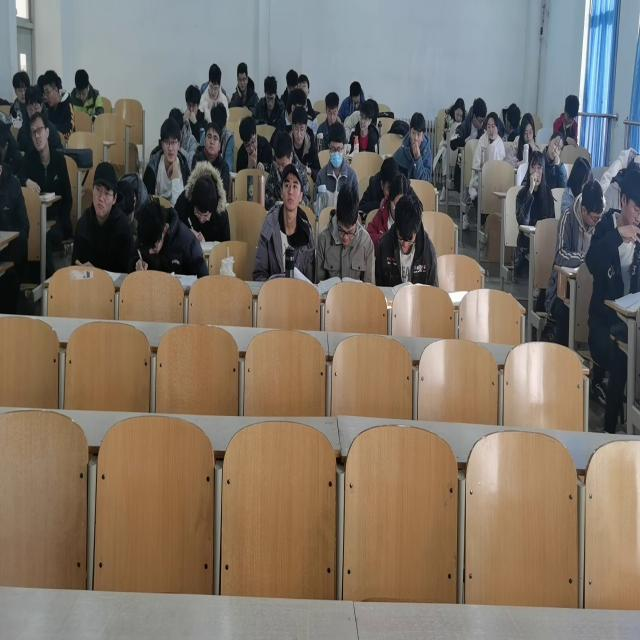bow: (128, 191, 209, 280), (174, 158, 233, 242), (358, 155, 400, 220), (235, 110, 274, 170), (450, 97, 488, 150), (495, 102, 524, 143), (442, 96, 466, 133)
down: (392, 189, 424, 251), (136, 197, 167, 258), (336, 185, 360, 249), (190, 173, 218, 226), (580, 177, 604, 230), (621, 164, 640, 230), (325, 121, 347, 169), (273, 130, 294, 179), (239, 112, 259, 156), (378, 157, 398, 200), (41, 70, 59, 110), (292, 102, 308, 145), (24, 84, 43, 120), (207, 63, 223, 102), (324, 88, 340, 127), (520, 110, 536, 146), (263, 73, 278, 111), (504, 100, 521, 133), (74, 68, 90, 103), (185, 83, 201, 117), (564, 92, 579, 125), (472, 98, 487, 130), (349, 81, 361, 113), (453, 95, 465, 121)
lookup: (90, 159, 119, 217), (278, 162, 305, 213), (160, 115, 182, 164), (27, 110, 50, 154), (408, 110, 426, 153), (527, 151, 546, 189), (203, 122, 223, 157), (358, 98, 374, 133), (548, 130, 564, 163), (485, 109, 500, 140), (296, 70, 310, 98), (236, 60, 248, 92)
sit: (251, 161, 318, 285), (69, 160, 137, 276), (584, 165, 640, 305), (374, 188, 438, 284), (315, 183, 375, 285), (554, 174, 607, 266), (18, 112, 73, 194), (143, 112, 190, 204), (264, 128, 312, 211), (315, 120, 359, 208), (515, 148, 556, 227), (191, 120, 230, 191), (396, 111, 432, 184), (290, 101, 322, 181), (41, 70, 76, 142), (505, 110, 540, 170), (472, 110, 505, 170), (348, 96, 380, 156), (316, 90, 347, 150), (68, 66, 104, 117), (199, 61, 229, 122), (252, 73, 284, 126), (552, 92, 580, 150), (541, 129, 567, 189), (228, 59, 259, 109), (184, 82, 209, 142), (337, 78, 365, 122)
